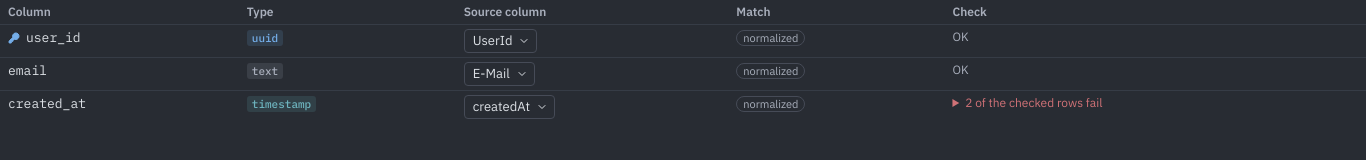
Test: ImportMappingStep › lists failure counts and samples
The width and height of the screenshot is (1366, 160).
Click the heading "2 of the checked rows fail" at [1034, 102], box x1=965 y1=95 x2=1102 y2=110
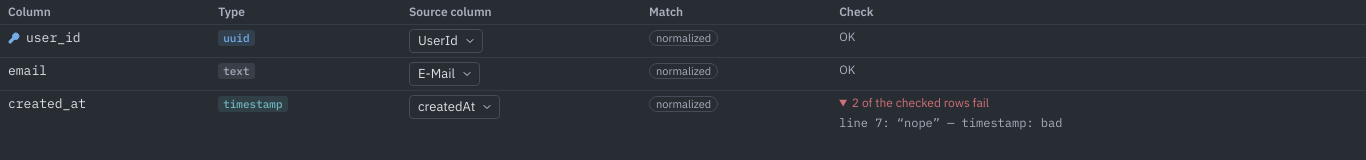
Check: the list item "line 7: “nope” — timestamp: bad" is shown, box x1=839 y1=115 x2=1062 y2=130
